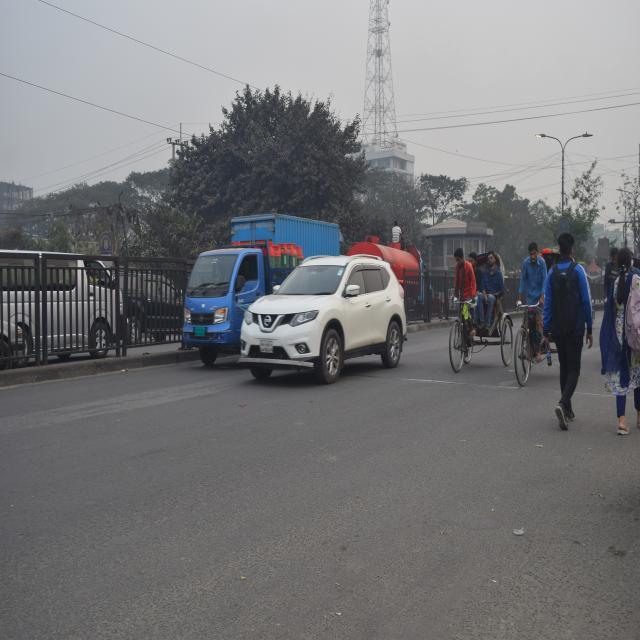car: (238, 250, 414, 395)
microbus: (0, 240, 128, 371), (117, 262, 188, 352)
pickup-van: (182, 197, 342, 359)
truck: (348, 228, 438, 324)
